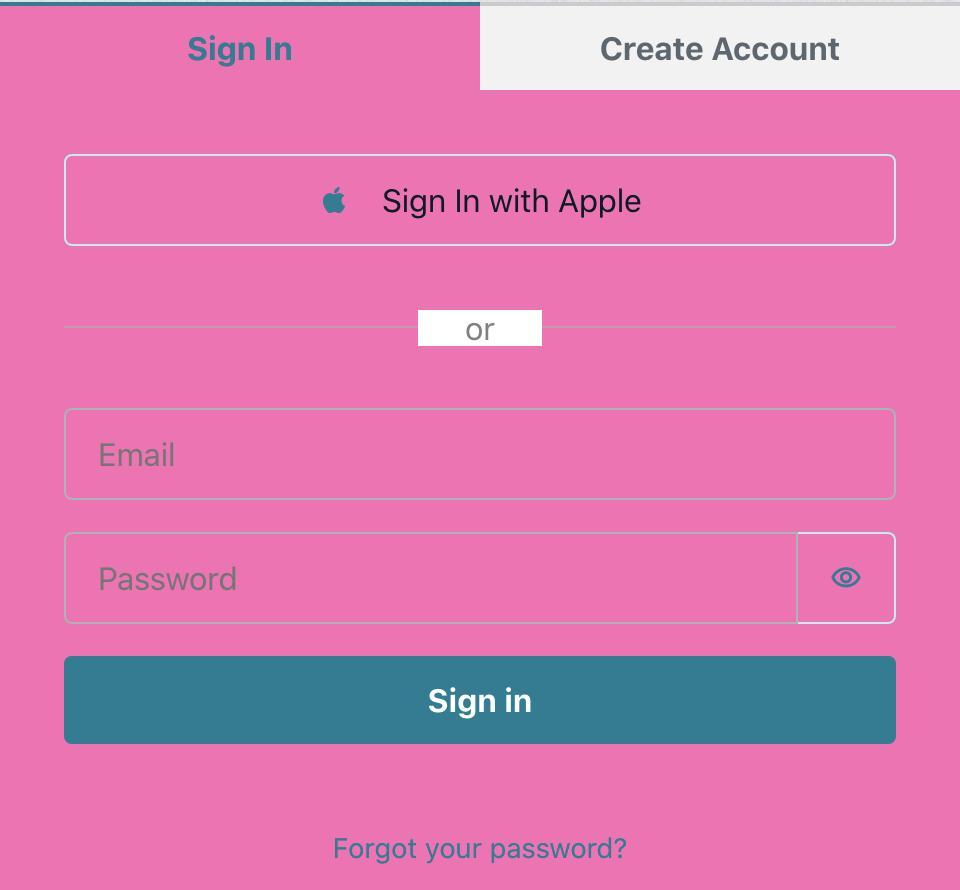button: (64, 153, 900, 245)
icon: (831, 563, 863, 595)
input: (66, 654, 900, 746), (67, 409, 899, 500), (66, 533, 800, 623)
label: (330, 829, 636, 868), (596, 34, 841, 67), (184, 36, 301, 70)
